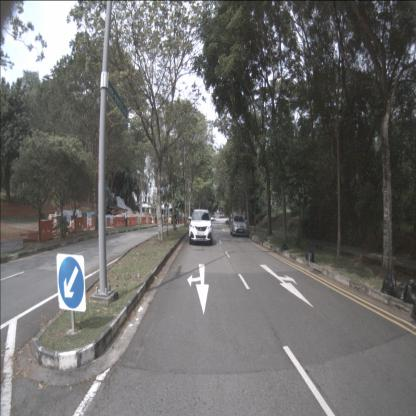barrier: (38, 219, 53, 241), (74, 217, 84, 232), (113, 217, 126, 228), (126, 217, 139, 226), (137, 216, 142, 226), (141, 216, 147, 224), (153, 217, 157, 224), (148, 217, 152, 224), (146, 217, 149, 224)
cone: (86, 219, 90, 228)
